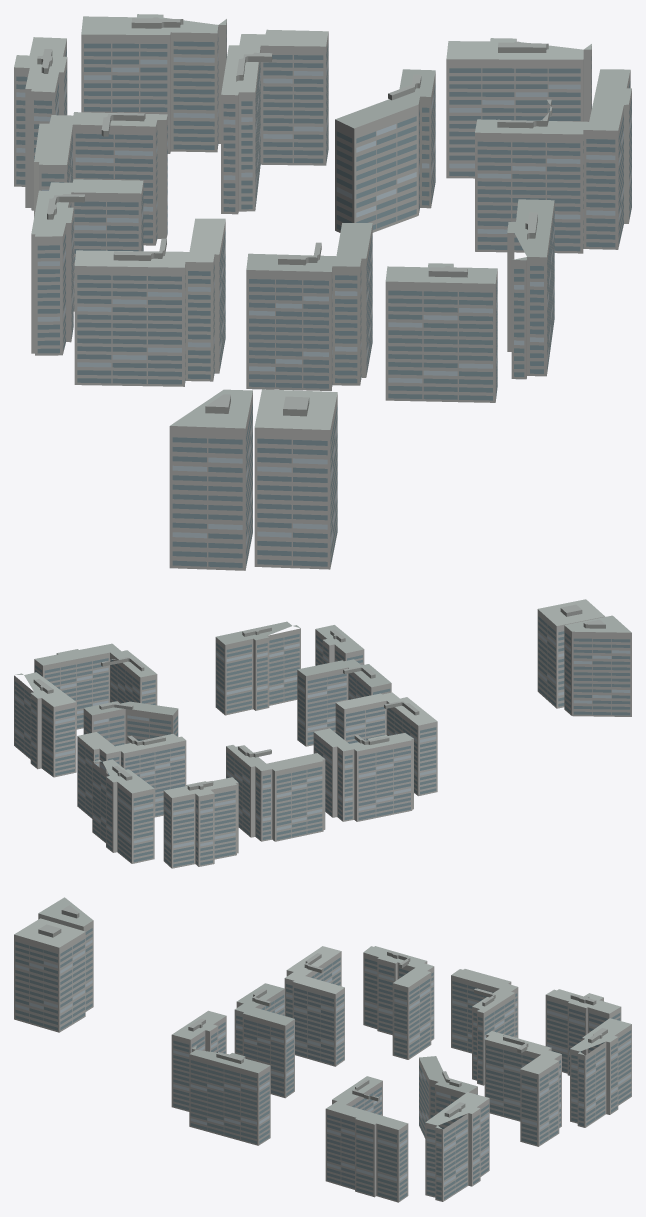
The model's file is apt-a15780705.glb.
3 views of the same model, one above another, from view 1: azimuth 30°, elevation 25°; view 2: azimuth 150°, elevation 25°; view 3: azimuth 270°, elevation 25° (orthographic). The views are drawn at different scales.
Visible parts, largest first — view 1: apt-a15780705; view 2: apt-a15780705; view 3: apt-a15780705.
Part boxes in pixels (x1,y1,x2,y2): apt-a15780705: [14, 14, 631, 570]; apt-a15780705: [14, 599, 631, 868]; apt-a15780705: [14, 897, 631, 1202].
Size of the model in its own units: 253 by 49 by 302.
